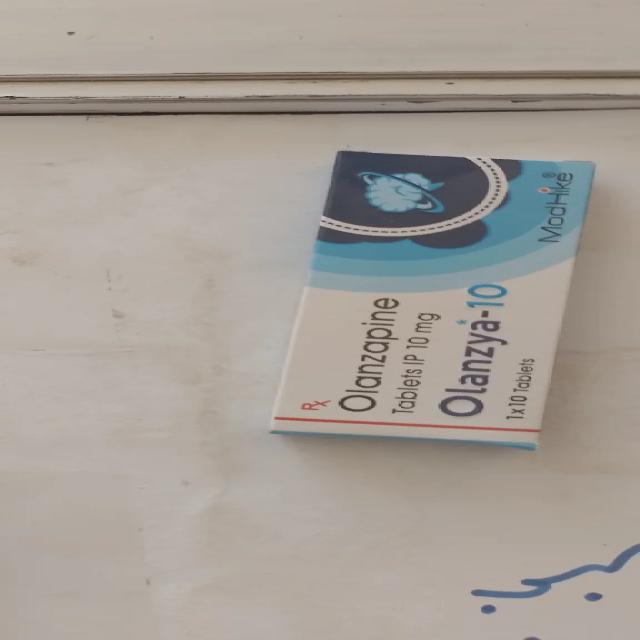drug-name: (438, 281, 515, 419)
